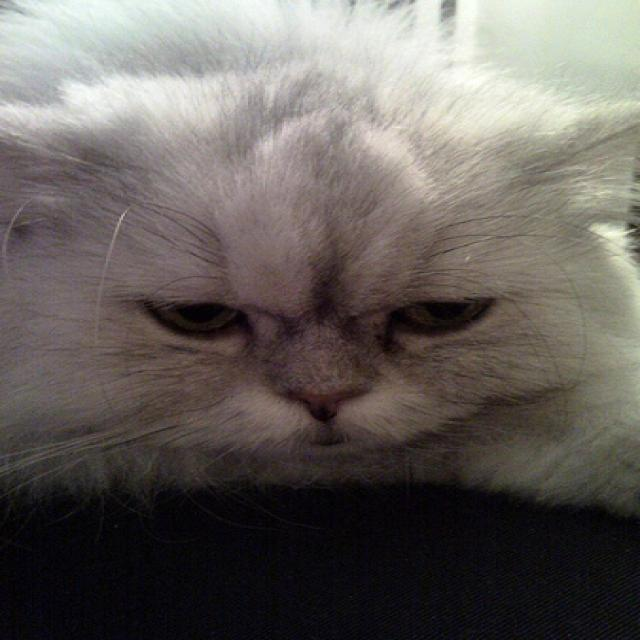Persian: (0, 0, 640, 525)
